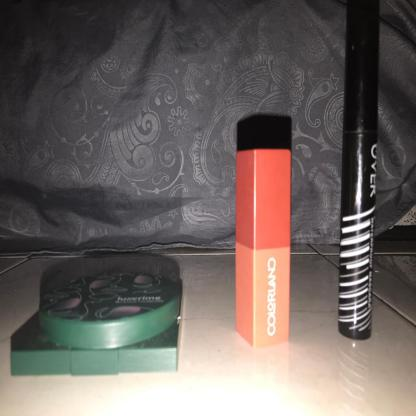lipstick: (219, 121, 300, 367)
